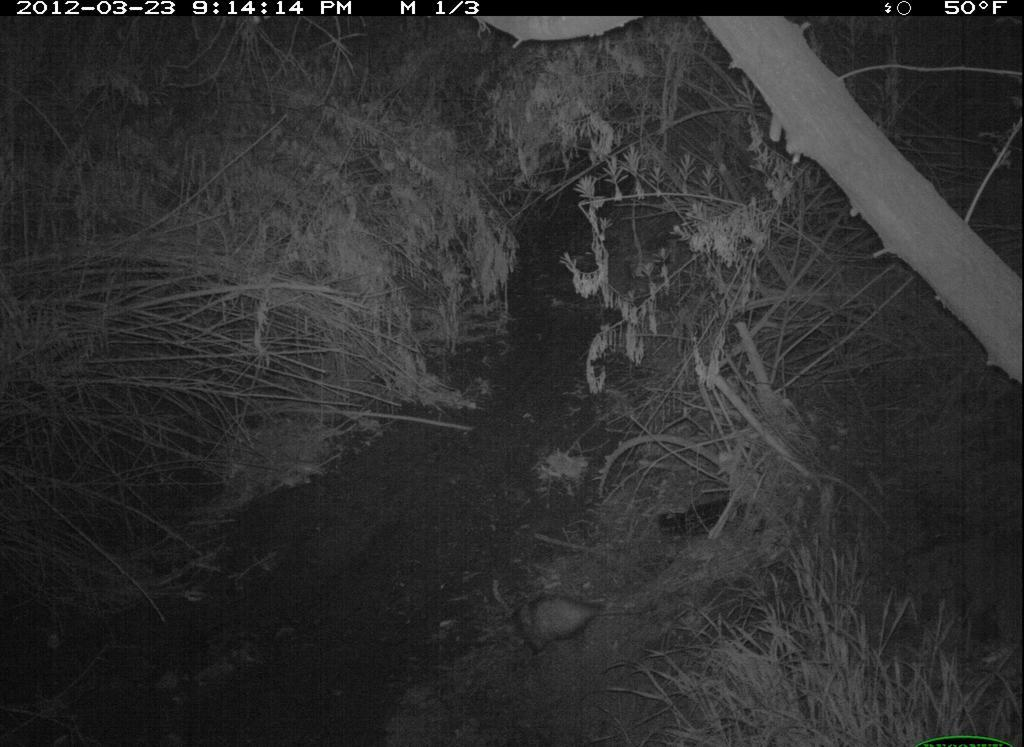opossum: (491, 584, 660, 660)
